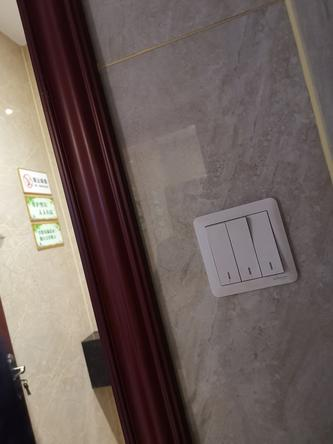switch: (243, 206, 283, 277), (200, 221, 243, 287), (226, 214, 261, 283)
